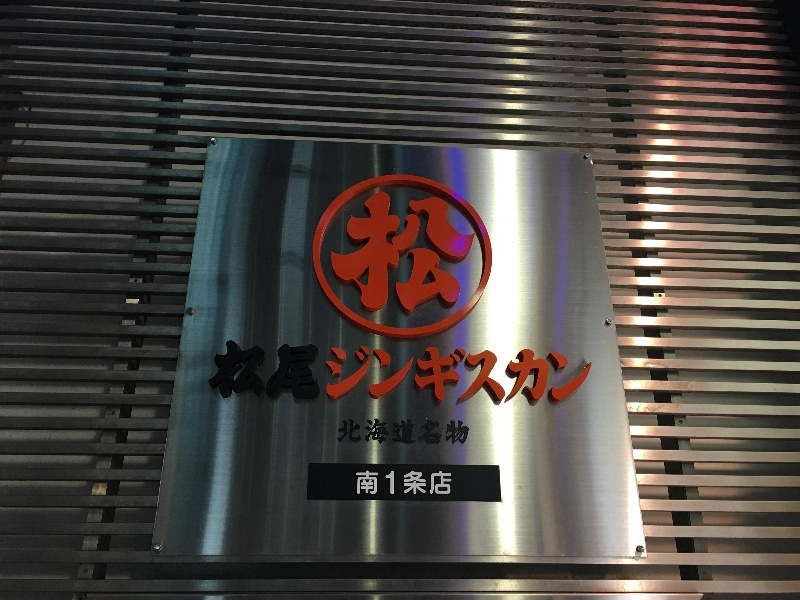text: (321, 173, 336, 343), (337, 173, 352, 343), (353, 173, 368, 343), (369, 173, 384, 343), (385, 173, 400, 343), (401, 173, 416, 343), (417, 173, 432, 343), (433, 173, 448, 343), (449, 173, 464, 343), (465, 173, 480, 343), (481, 173, 496, 343), (225, 341, 240, 410), (241, 341, 256, 410), (257, 341, 272, 410), (273, 341, 288, 410), (289, 341, 304, 410), (305, 341, 320, 410), (321, 341, 336, 410), (337, 341, 352, 410), (353, 341, 368, 410), (369, 341, 384, 410), (385, 341, 400, 410), (401, 341, 416, 410), (417, 341, 432, 410), (433, 341, 448, 410), (449, 341, 464, 410), (465, 341, 480, 410), (481, 341, 496, 410), (497, 341, 512, 410), (513, 341, 528, 410), (529, 341, 544, 410), (545, 341, 560, 410), (561, 341, 576, 410), (577, 341, 592, 410), (215, 341, 224, 410), (337, 419, 352, 448), (353, 419, 368, 448), (369, 419, 384, 448), (385, 419, 400, 448), (401, 419, 416, 448), (417, 419, 432, 448), (433, 419, 448, 448), (449, 419, 464, 448), (353, 471, 368, 499), (369, 471, 384, 499), (385, 471, 400, 499), (401, 471, 416, 499), (417, 471, 432, 499), (433, 471, 448, 499), (318, 173, 320, 343), (449, 471, 456, 499), (465, 419, 471, 448), (593, 341, 594, 410), (351, 471, 352, 499)
